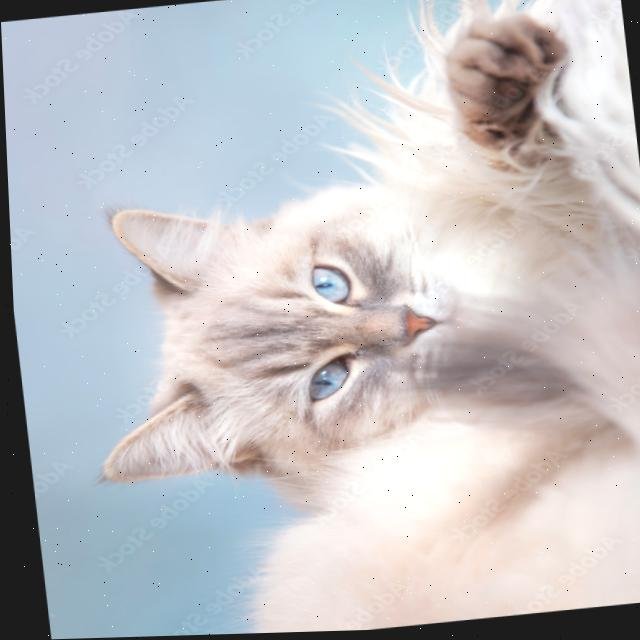Neva Masquerade: (36, 0, 640, 639)
